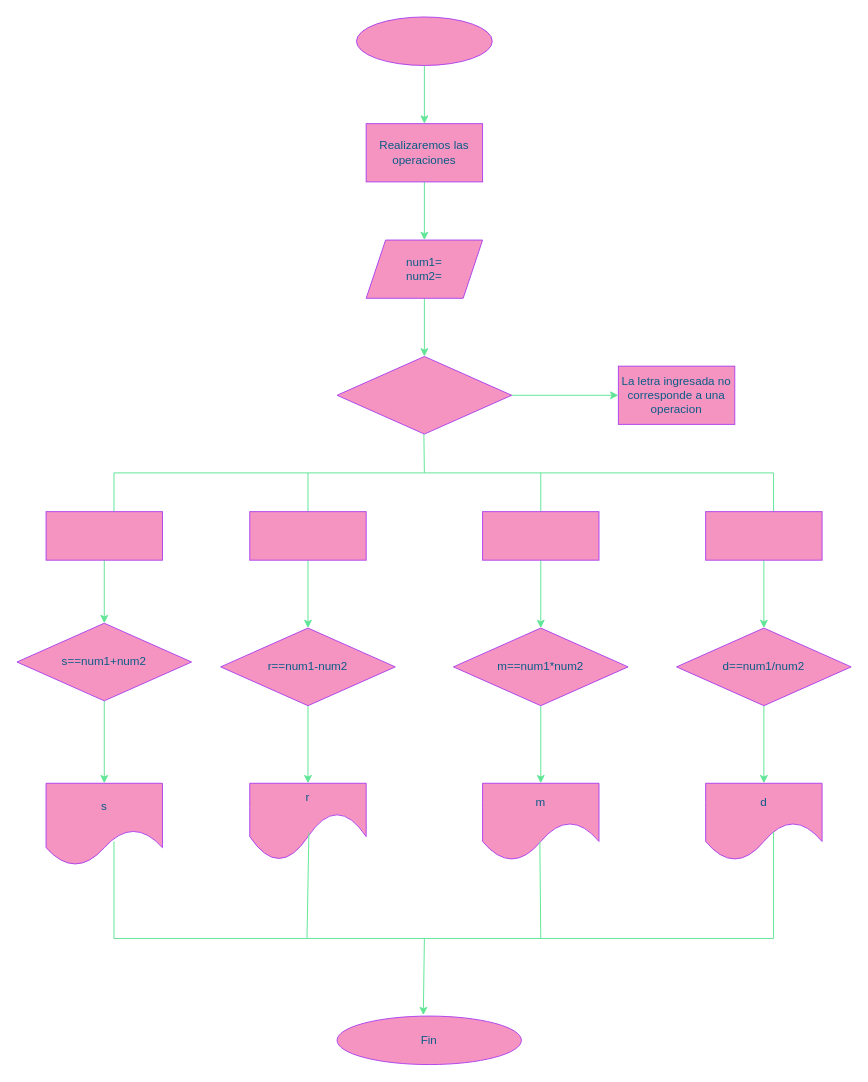
Image size: 868x1082. Some labels were removed from this diagram. Each missing label, with the box of its shape:
Division: (705, 511, 822, 560)
Inicio: (356, 16, 492, 65)
Multiplicacion: (482, 511, 599, 560)
operación: (336, 356, 512, 434)
Resta: (249, 511, 366, 560)
suma: (45, 511, 162, 560)
